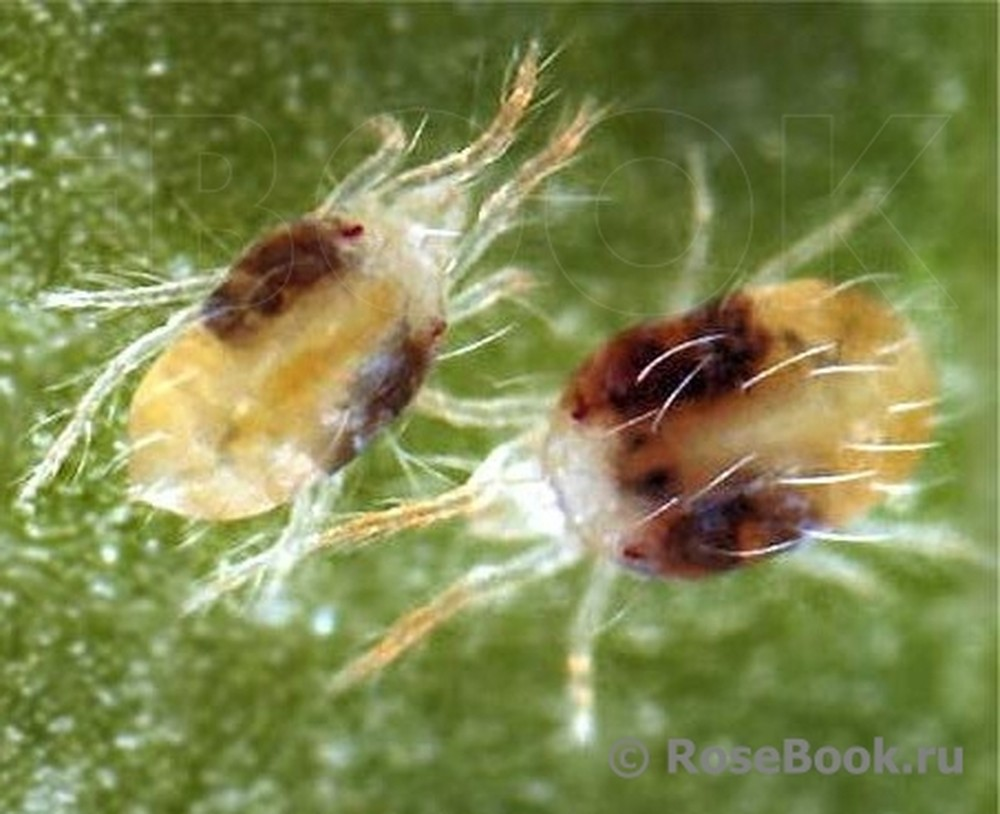Aracnido Rojo: (35, 43, 564, 586), (357, 262, 976, 720)
